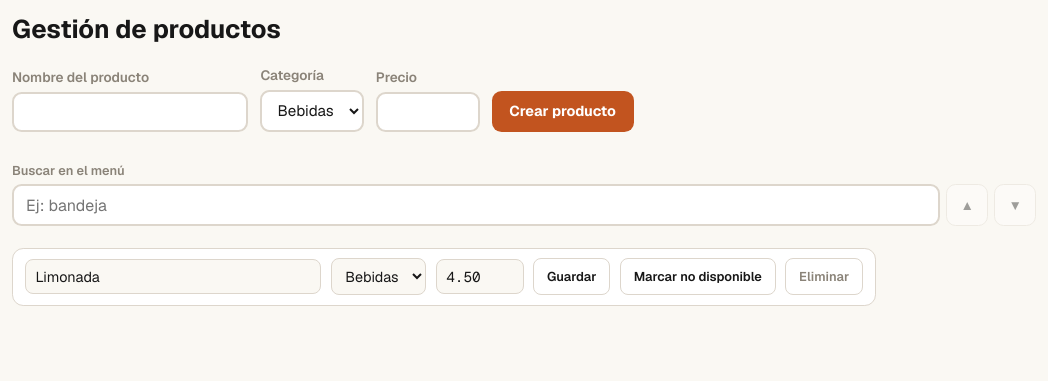
ProductosManagement (T39, RF-2/3/4/5) › shows the duplicate-name error when creating a product
Expected: the dropdown labelled "Categoría" is shown, [260,90,364,132]
Type "Limonada" into the field labelled "Nombre del producto".
click(130, 112); type("Limonada")  # box [12,92,248,132]
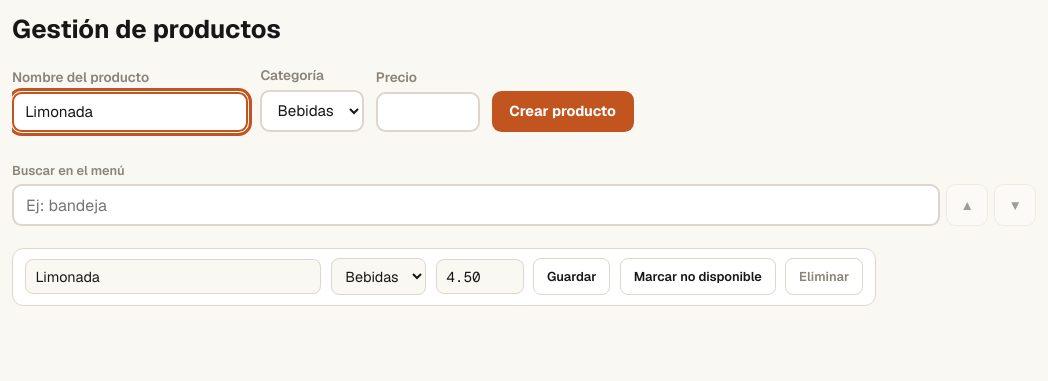
Type "4.5" into the number field labelled "Precio".
click(428, 112); type("4.5")  # box [376,92,480,132]
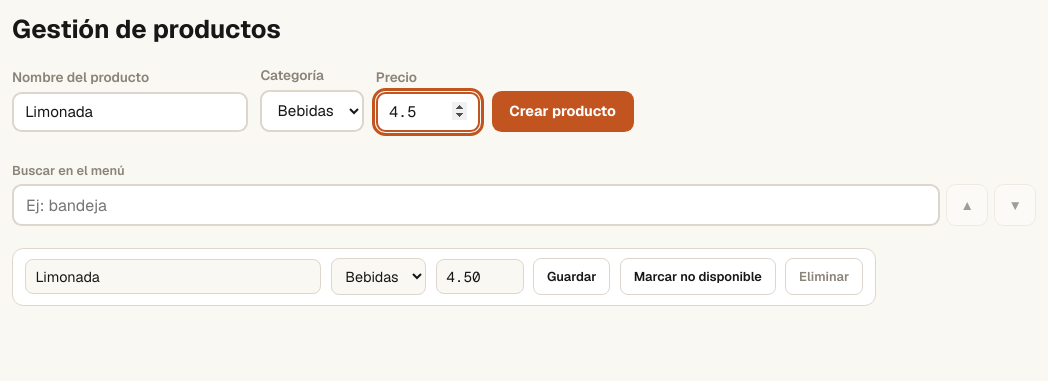
Click the button "Crear producto".
click(563, 111)  # box [492,91,634,132]
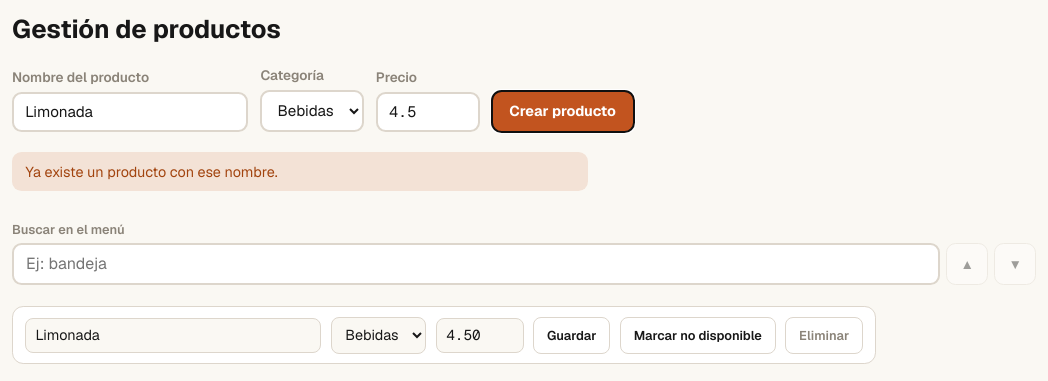
Now the text "Ya existe un producto con ese nombre." is shown, box [12,152,588,191]
